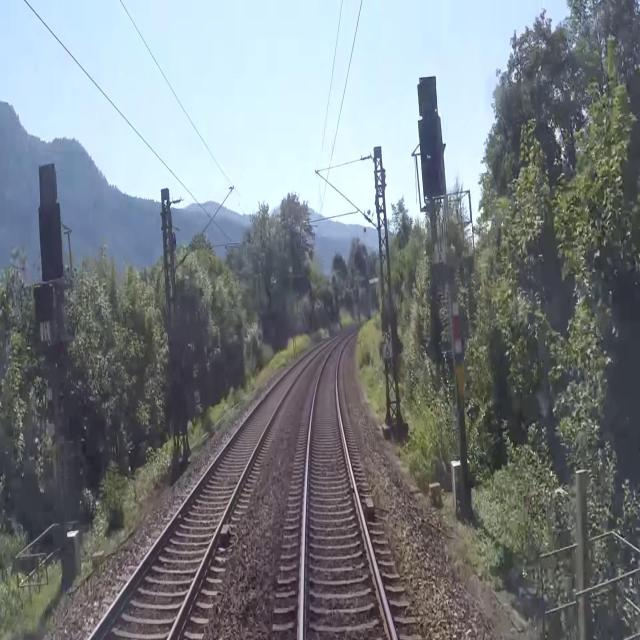rail-track: (93, 349, 318, 639), (304, 339, 392, 639)
